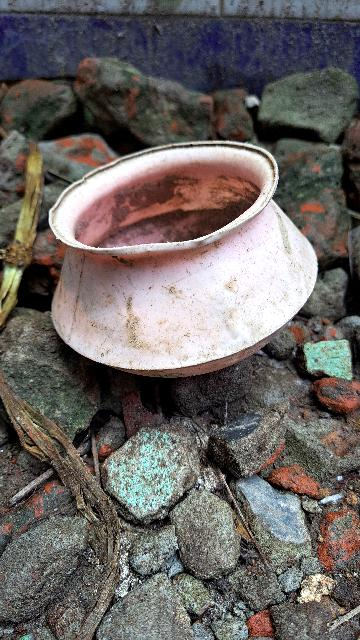hardplastic: (54, 146, 319, 370)
